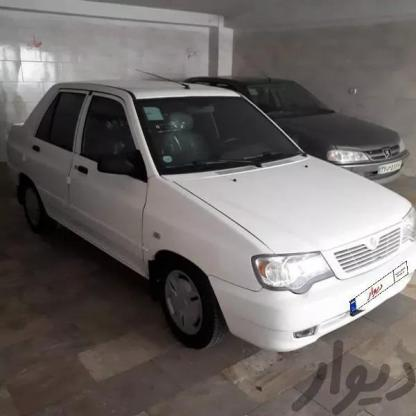Car: (1, 64, 400, 355), (177, 56, 410, 192)
